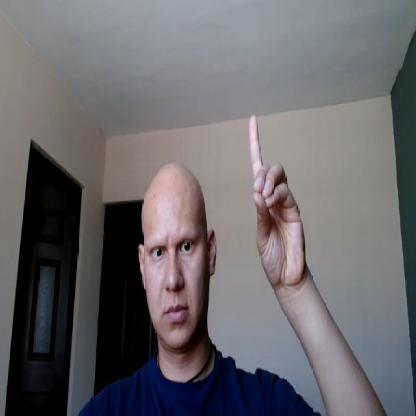D: (249, 113, 306, 284)
